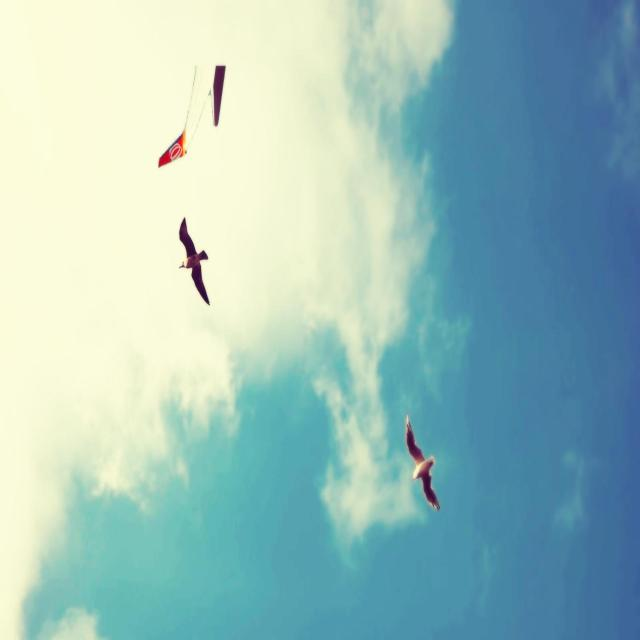airplane: (157, 63, 225, 168)
